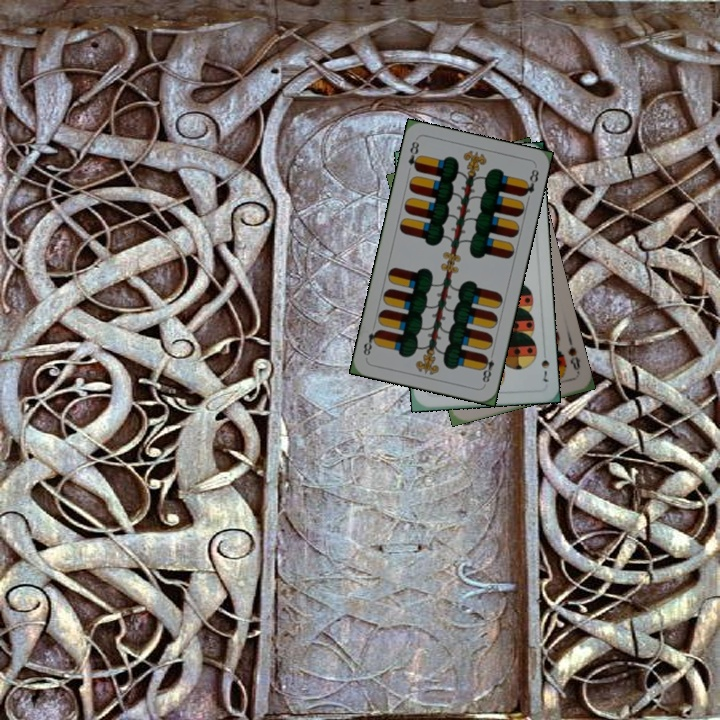E8: (478, 347, 497, 385), (404, 137, 423, 174)
S7: (538, 356, 552, 384)
S8: (564, 343, 583, 377)
